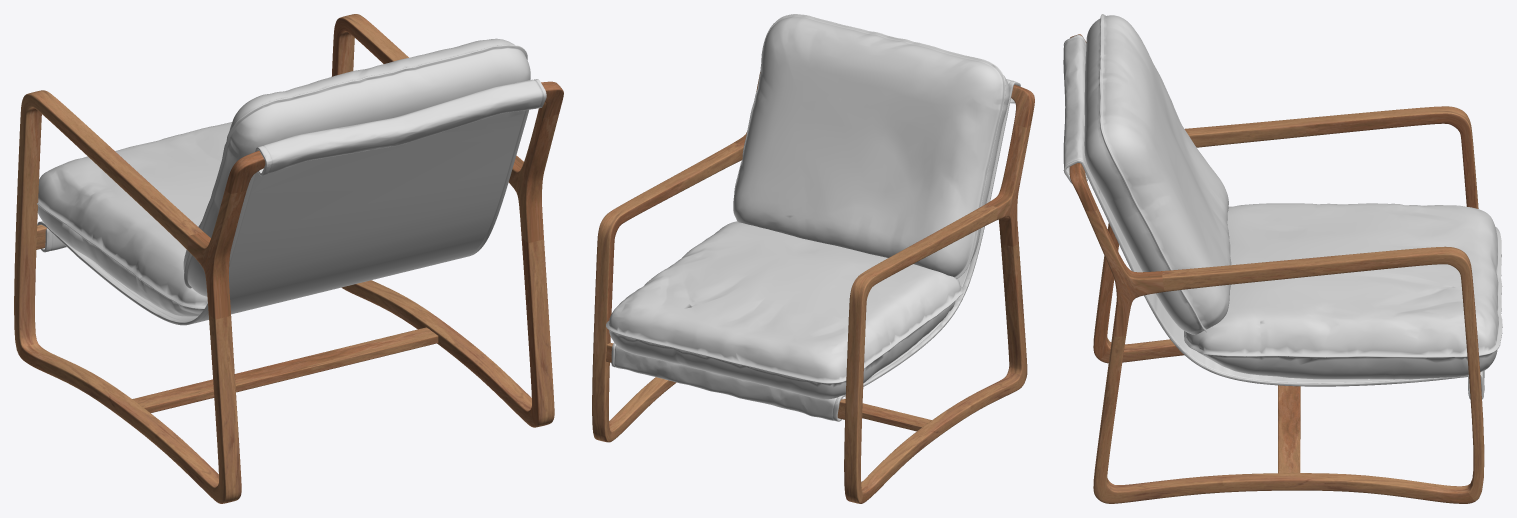
File: poltrona.fbx
The picture shows the model from 3 angles, left to right: view 1: azimuth 30°, elevation 25°; view 2: azimuth 150°, elevation 25°; view 3: azimuth 270°, elevation 25°; orthographic projection. The views are drawn at different scales.
Parts seen in each view (by area): view 1: Aster Luxury Armchair; view 2: Aster Luxury Armchair; view 3: Aster Luxury Armchair.
Part boxes in pixels (<box>): Aster Luxury Armchair: <box>14,14,563,503</box>; Aster Luxury Armchair: <box>592,14,1034,503</box>; Aster Luxury Armchair: <box>1063,14,1502,503</box>.
Size of the model in its own units: 92.49 by 106 by 116.
